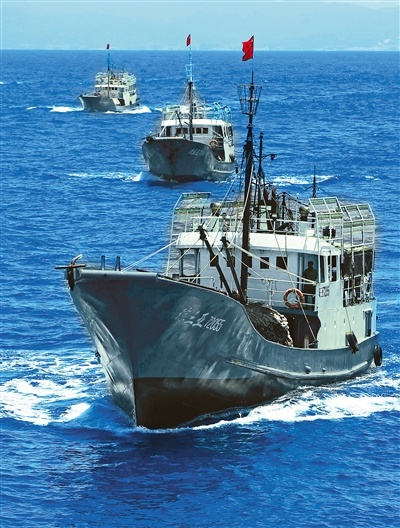otherboat: (41, 171, 387, 441), (133, 86, 234, 184), (84, 66, 148, 113)
